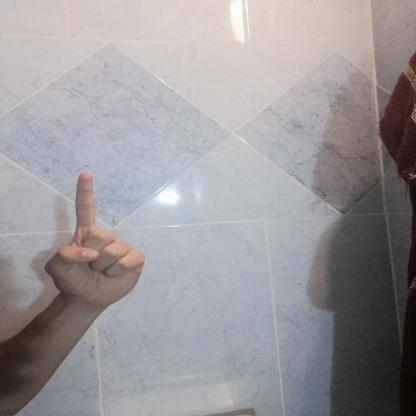BAA: (31, 160, 158, 316)
